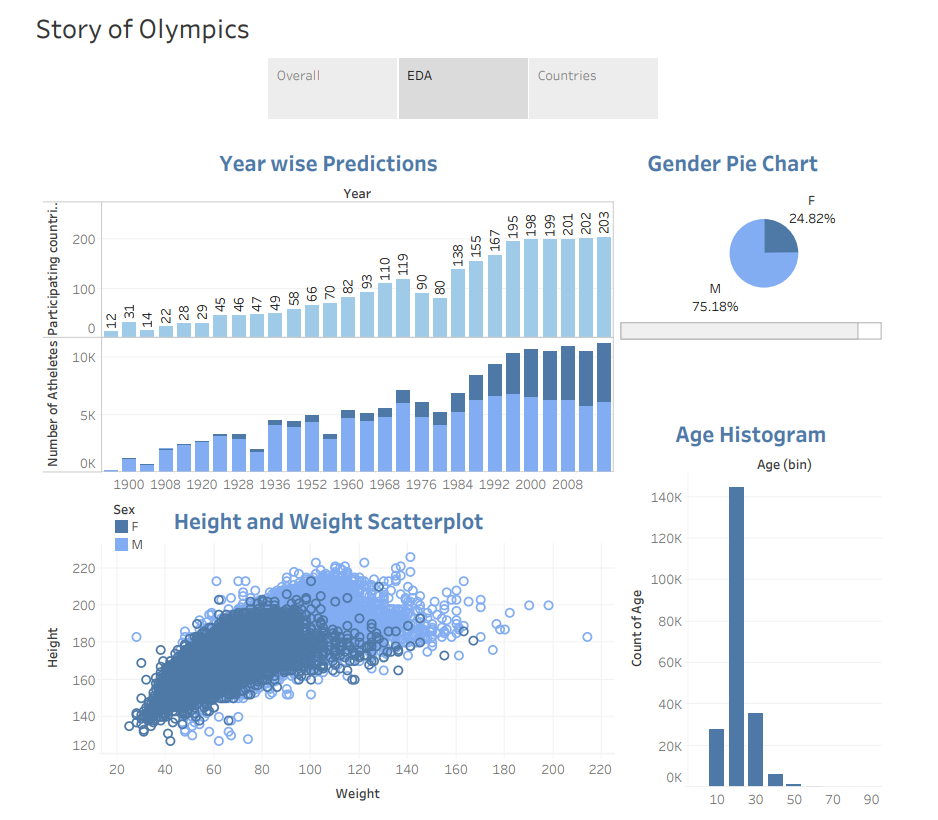

This screenshot's page, from the dashboard's own definition file:
{"tool":"tableau","page":{"name":"Dashboard 2-EDA","canvas":[1000,800],"ordinal":1},"visuals":[{"type":"worksheet","title":"3.Year Wise Predictions","mark":"Automatic","rows":["country","ID"],"cols":["Year"],"box":[8,8,673,418]},{"type":"worksheet","title":"4.Gender PIe-Chart","mark":"Pie","box":[681,8,311,316]},{"type":"worksheet","title":"5.Age Histogram","mark":"Automatic","rows":["Age"],"cols":["Age (bin)"],"box":[681,324,311,468]},{"type":"worksheet","title":"6.Height and Weight Scatterplot","mark":"Automatic","rows":["Height"],"cols":["Weight"],"box":[8,426,673,366]},{"type":"legend","title":"3.Year Wise Predictions","param":"[federated.0mh6oik1b3v9e11gnspha0zgw7om].[none:Sex:nk]","box":[93,427,140,64]}]}

Visuals, with their boxes on the page's 1000x800 design canvas (x1, y1, x2, y2). These are canvas units, not pixel positions in the 938x820 screenshot, which may show the page scaled, cropped or inside an application window:
"3.Year Wise Predictions" worksheet: (x1=8, y1=8, x2=681, y2=426)
"4.Gender PIe-Chart" worksheet (Pie marks): (x1=681, y1=8, x2=992, y2=324)
"5.Age Histogram" worksheet: (x1=681, y1=324, x2=992, y2=792)
"6.Height and Weight Scatterplot" worksheet: (x1=8, y1=426, x2=681, y2=792)
"3.Year Wise Predictions" legend: (x1=93, y1=427, x2=233, y2=491)
